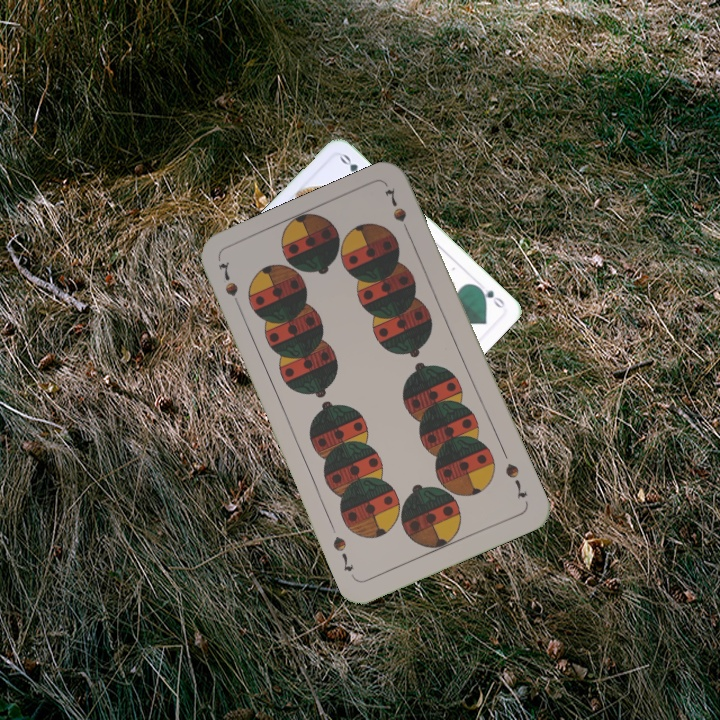GO: (473, 280, 507, 312)
S7: (214, 257, 245, 314), (501, 459, 530, 502)
